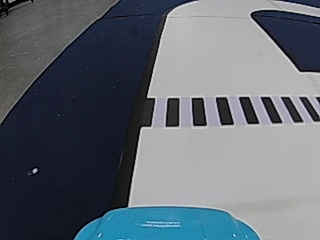CrossWalk: (140, 91, 320, 128)
